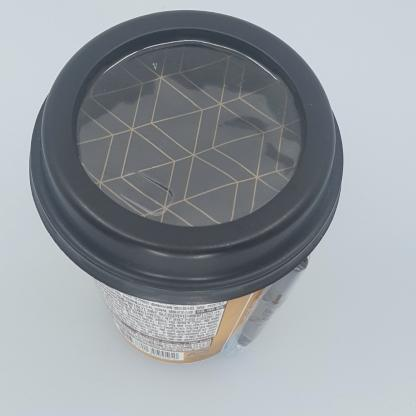---------250ML: (29, 10, 344, 364)
